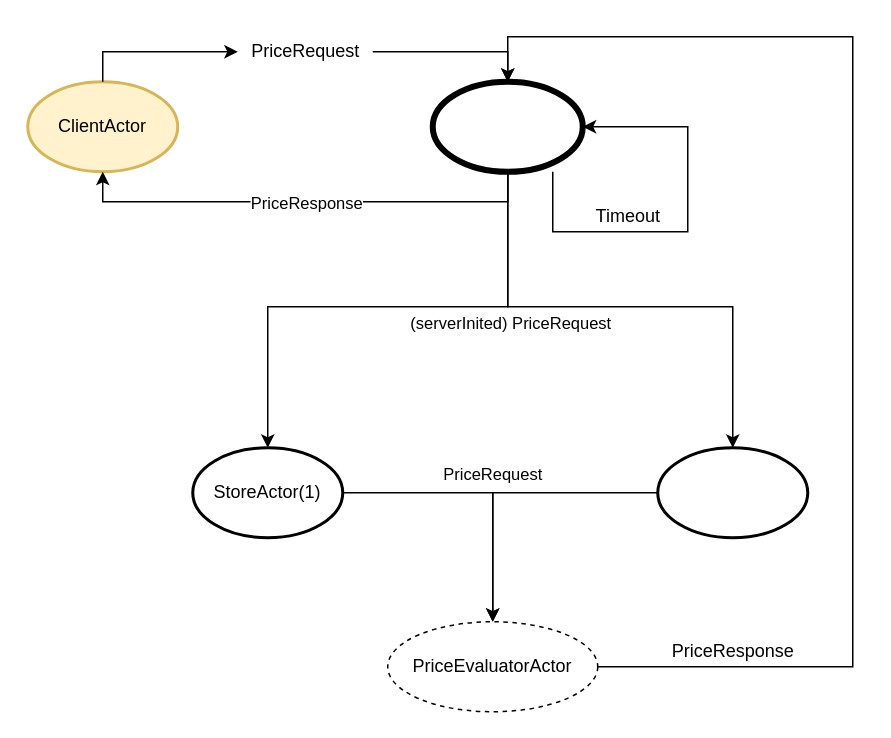
The diagram is 891 pixels wide and 738 high, and some of its shapes have lost their labels. The shapes that lost their labels are listed below. From the top down, each one's box as (x1, y1, x2, y2) in pixels, then its label:
(429, 78, 585, 174): ServerActor
(656, 446, 808, 538): StoreActor(2)
